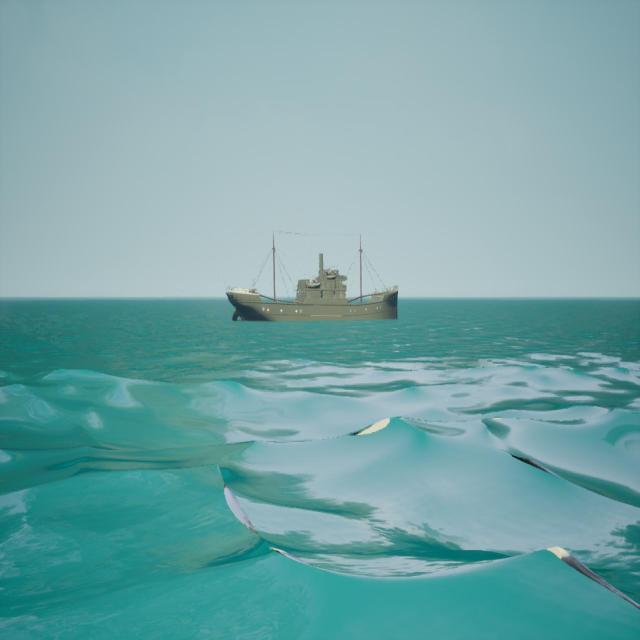fishing ship: (227, 231, 399, 323)
